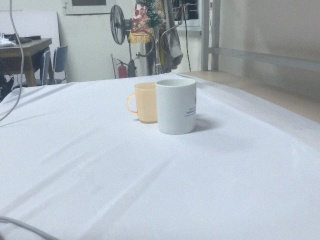cup: (155, 74, 199, 137), (125, 82, 159, 125)
